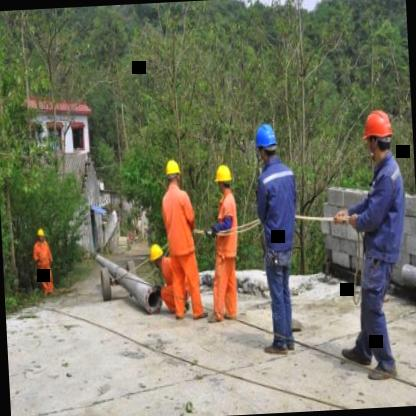helmet: (360, 106, 396, 164), (251, 121, 278, 164), (162, 156, 183, 192), (212, 161, 233, 192), (148, 239, 164, 271), (34, 224, 46, 244)
